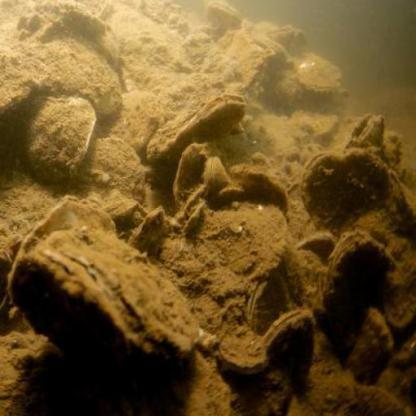Oyster- Indeterminate: (300, 150, 416, 270), (319, 227, 397, 356), (146, 96, 245, 164), (260, 312, 315, 388), (225, 32, 272, 101), (221, 326, 269, 376), (290, 56, 341, 92), (345, 111, 385, 150), (272, 25, 307, 55), (204, 1, 239, 28)
Oyster-Closed: (11, 232, 201, 373), (179, 197, 288, 296), (16, 96, 98, 185), (36, 39, 123, 112), (16, 200, 118, 259), (76, 138, 145, 212), (126, 209, 181, 260), (0, 51, 35, 113), (245, 172, 292, 209)
